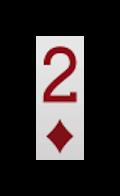2D: (39, 43, 81, 157)
